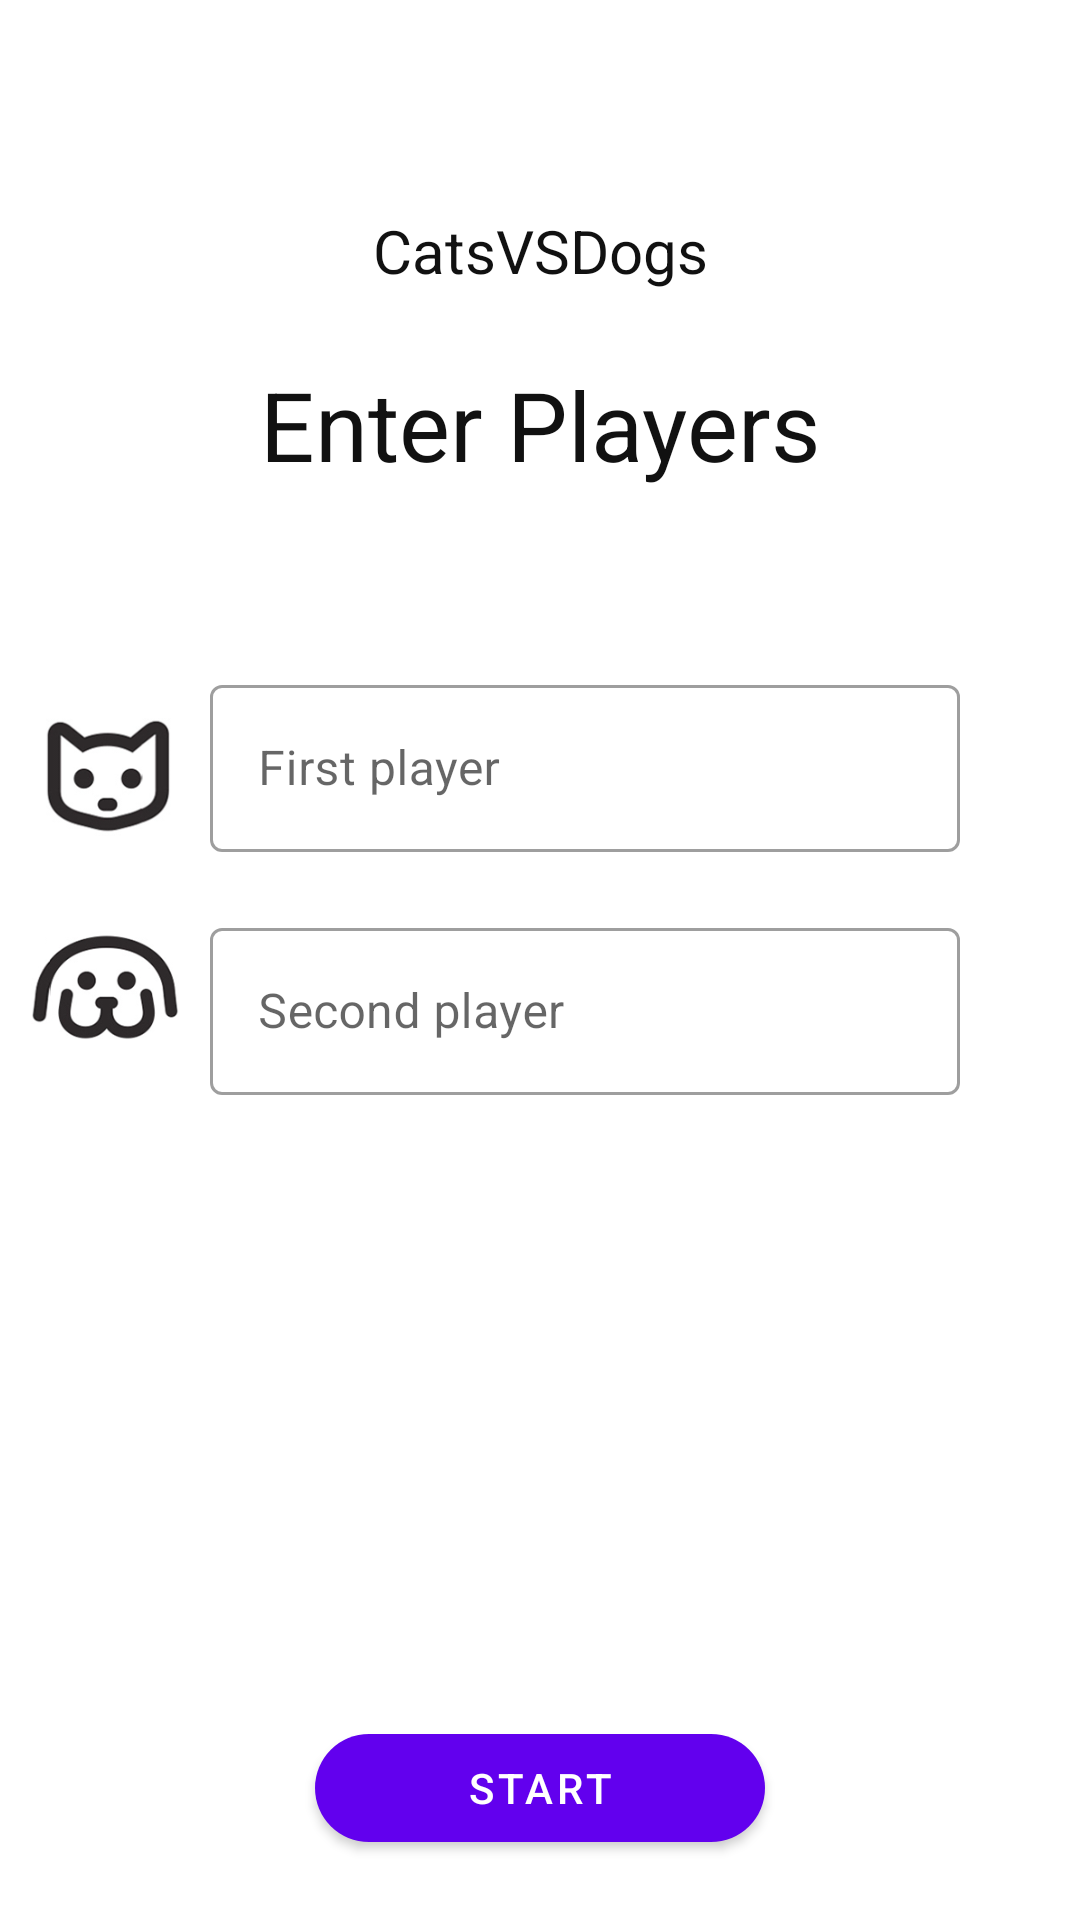

Named icons in this screenshot (1080 x 1920) and their bounding boxes, (x1, y1, x2, y2):
cat: (47, 721, 170, 832)
dog: (32, 935, 178, 1039)
